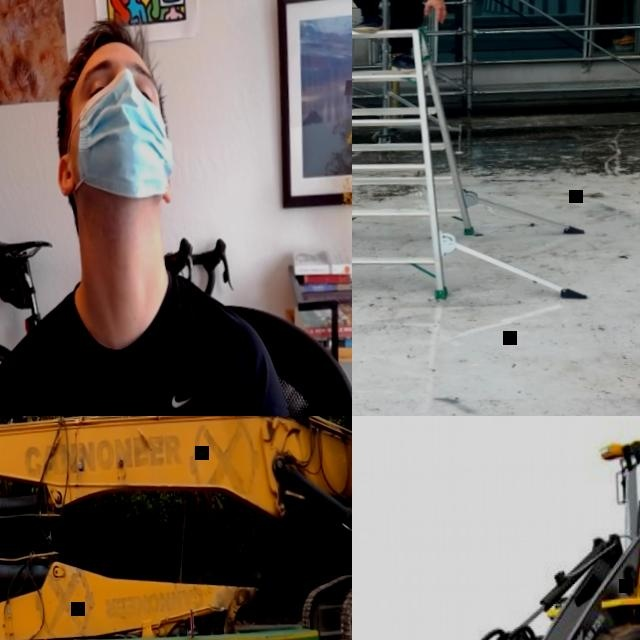Mask: (60, 71, 174, 205)
NO-Hardhat: (51, 17, 155, 83)
NO-Safety Vest: (8, 278, 253, 416)
Person: (0, 29, 317, 416), (352, 0, 465, 77)
machinery: (0, 416, 352, 640), (352, 416, 640, 640), (290, 416, 352, 640)
